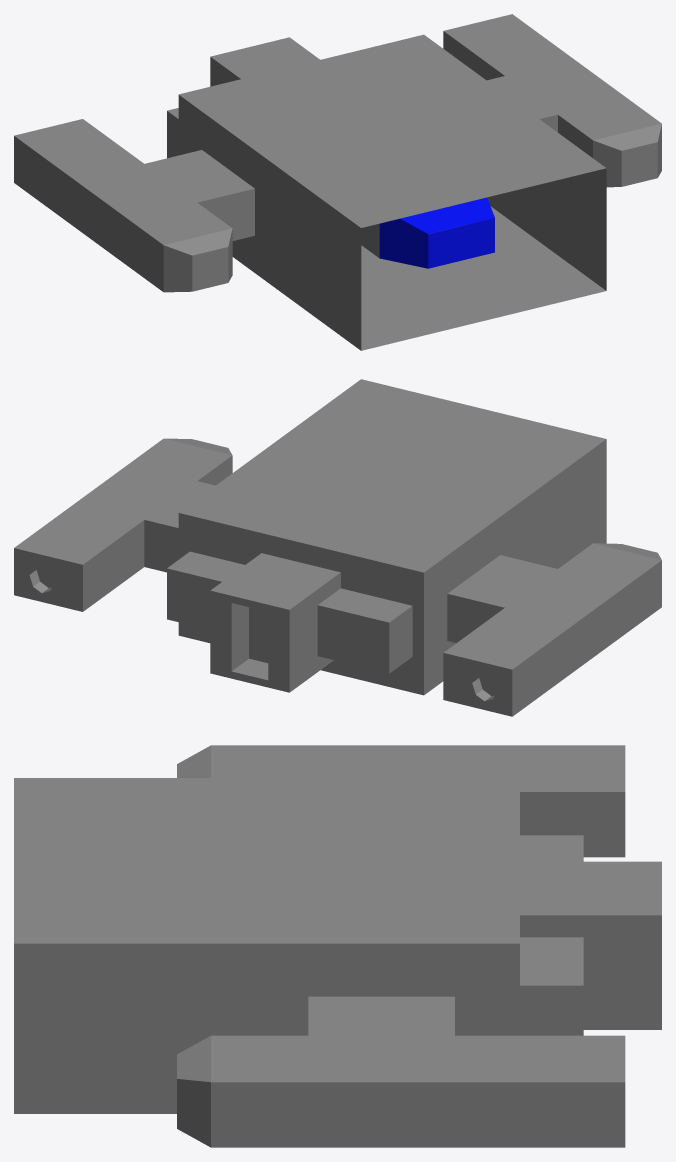
Rendered from Ship.fbx.
3 renders of one model, top to bottom at view 1: azimuth 30°, elevation 25°; view 2: azimuth 150°, elevation 25°; view 3: azimuth 270°, elevation 25°, orthographic. The views are drawn at different scales.
Visible parts, largest first — view 1: ShipExteroir, ShipInteroir; view 2: ShipExteroir, ShipInteroir; view 3: ShipExteroir, ShipInteroir.
Part boxes in pixels (<box>): ShipExteroir: <box>14,14,661,350</box>; ShipInteroir: <box>167,108,494,268</box>; ShipExteroir: <box>14,379,661,716</box>; ShipInteroir: <box>167,551,412,673</box>; ShipExteroir: <box>14,745,661,1147</box>; ShipInteroir: <box>520,835,583,1035</box>.
Bounding box in the file's own units: 2946 × 694 × 2395.
